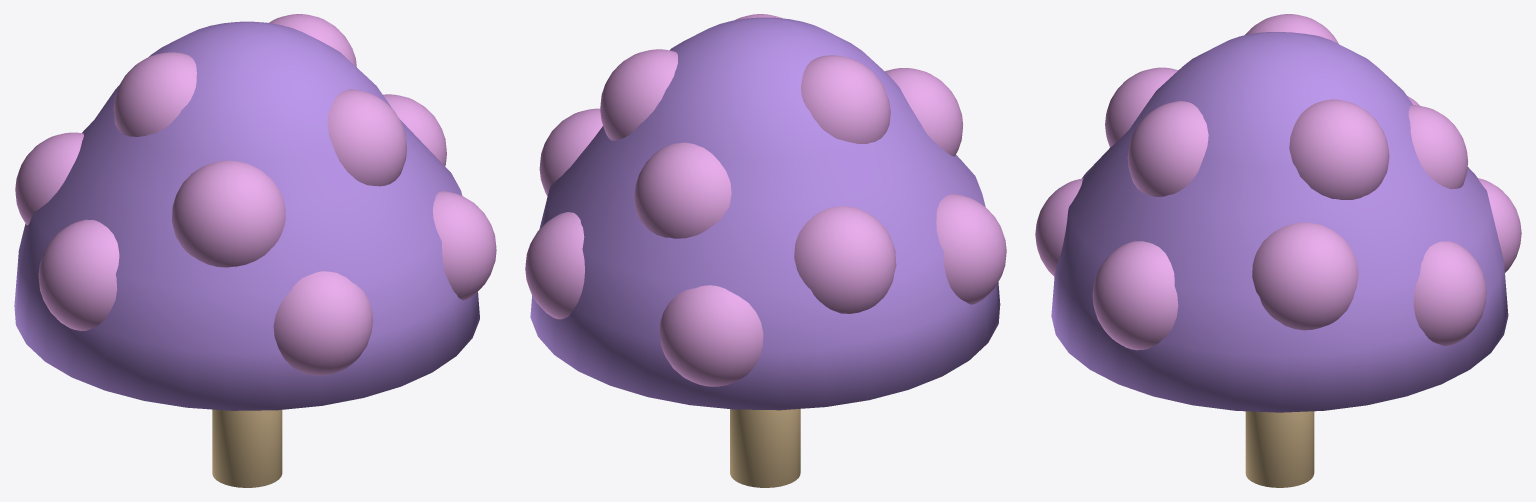
The model's file is mushroom.fbx.
3 renders of one model, left to right at view 1: azimuth 30°, elevation 25°; view 2: azimuth 150°, elevation 25°; view 3: azimuth 270°, elevation 25°, orthographic. The views are drawn at different scales.
Visible parts, largest first — view 1: TopBase, Gumball.002, Gumball.003, Gumball.008, Gumball.001, BottomBase, Gumball, Gumball.004, Gumball.006, Gumball.011, Gumball.005; view 2: TopBase, Gumball.006, Gumball.010, Gumball.007, Gumball, Gumball.008, BottomBase, Gumball.009, Gumball.005, Gumball.002, Gumball.011; view 3: TopBase, Gumball.011, Gumball.005, Gumball.004, Gumball.001, Gumball.009, BottomBase, Gumball.007, Gumball.002, Gumball.003, Gumball.010, Gumball.
Part boxes in pixels (x1,y1,x2,y2): TopBase: [14, 21, 479, 410]; Gumball.002: [172, 160, 285, 267]; Gumball.003: [273, 271, 373, 375]; Gumball.008: [38, 219, 119, 330]; Gumball.001: [327, 89, 406, 186]; BottomBase: [212, 409, 282, 487]; Gumball: [113, 52, 196, 136]; Gumball.004: [432, 191, 496, 300]; Gumball.006: [15, 132, 83, 225]; Gumball.011: [383, 94, 446, 166]; Gumball.005: [269, 14, 356, 67]; TopBase: [530, 17, 1000, 410]; Gumball.006: [794, 206, 896, 313]; Gumball.010: [659, 285, 763, 386]; Gumball.007: [634, 142, 731, 238]; Gumball: [801, 55, 890, 143]; Gumball.008: [936, 193, 1006, 304]; BottomBase: [730, 409, 800, 487]; Gumball.009: [525, 212, 584, 319]; Gumball.005: [600, 49, 677, 140]; Gumball.002: [885, 68, 962, 156]; Gumball.011: [539, 108, 602, 196]; TopBase: [1051, 32, 1508, 412]; Gumball.011: [1252, 222, 1358, 330]; Gumball.005: [1289, 99, 1389, 199]; Gumball.004: [1092, 241, 1178, 350]; Gumball.001: [1127, 101, 1208, 196]; Gumball.009: [1413, 241, 1486, 345]; BottomBase: [1245, 411, 1314, 487]; Gumball.007: [1408, 105, 1467, 189]; Gumball.002: [1105, 67, 1178, 147]; Gumball.003: [1035, 178, 1083, 276]; Gumball.010: [1478, 178, 1521, 272]; Gumball: [1245, 14, 1338, 43].
Size of the model in its own units: 208 by 207 by 213.
